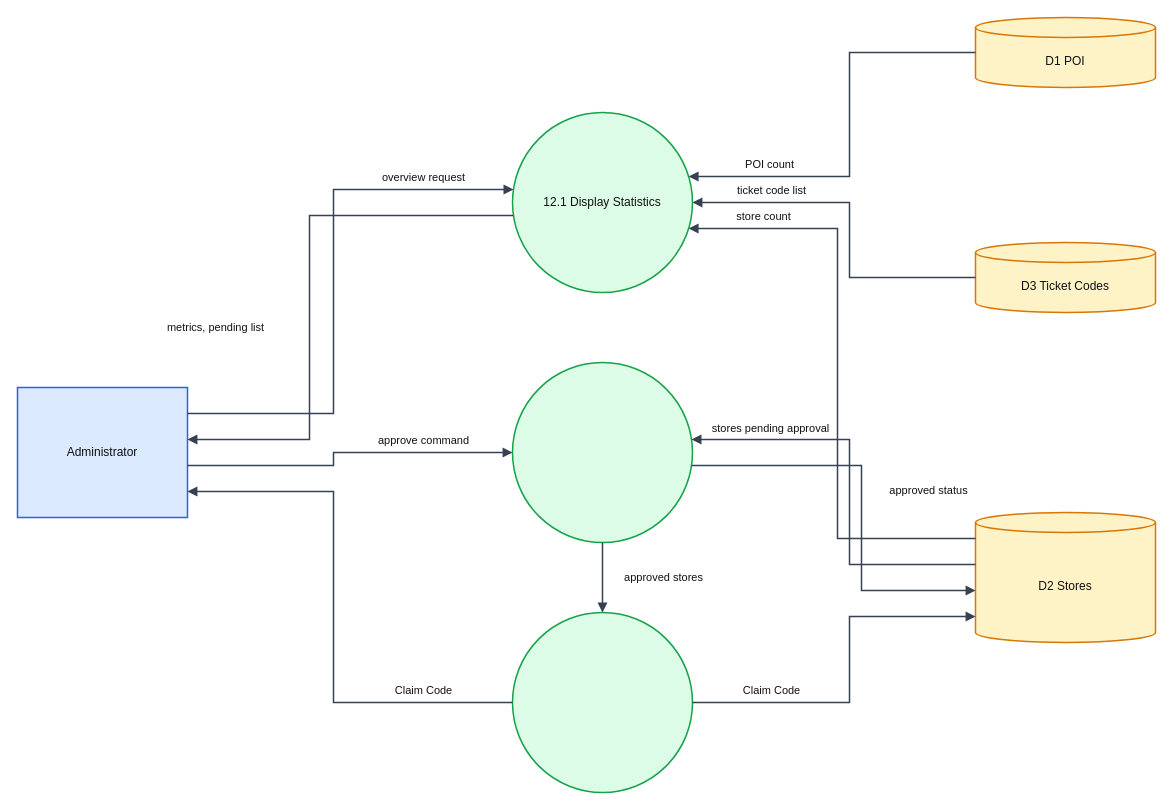
Some shapes in this 1174 by 811 pixel diagram are drawn without their labels. The shapes that lost their labels are listed below. From the top down, each one's centre as x and y in pixels, then its label:
At [602,452]: "12.2 Approve Store".
At [602,702]: "12.3 Issue Claim Code".
